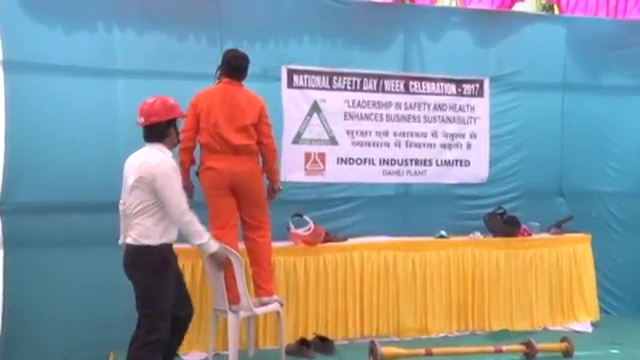helmet: (135, 93, 189, 127)
helmet_off: (211, 48, 251, 84)
helmet_on: (134, 94, 189, 152)
person: (116, 90, 222, 360), (177, 50, 288, 306)
